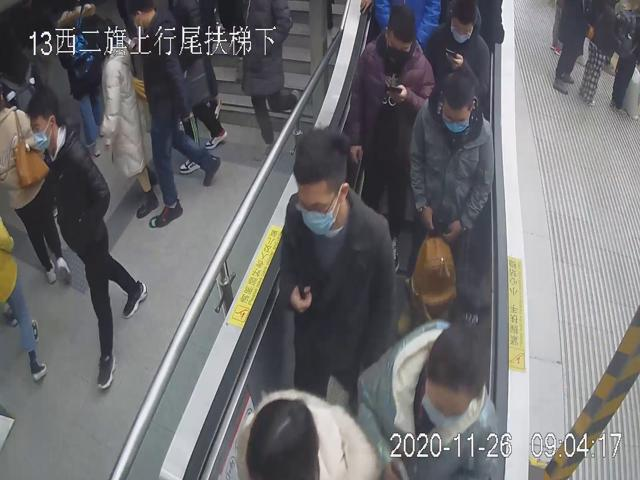person: (28, 92, 146, 393), (281, 128, 396, 394), (353, 311, 500, 472), (135, 2, 221, 228), (347, 4, 436, 205), (406, 64, 496, 241), (84, 17, 158, 219), (387, 228, 472, 344), (425, 0, 492, 119)
